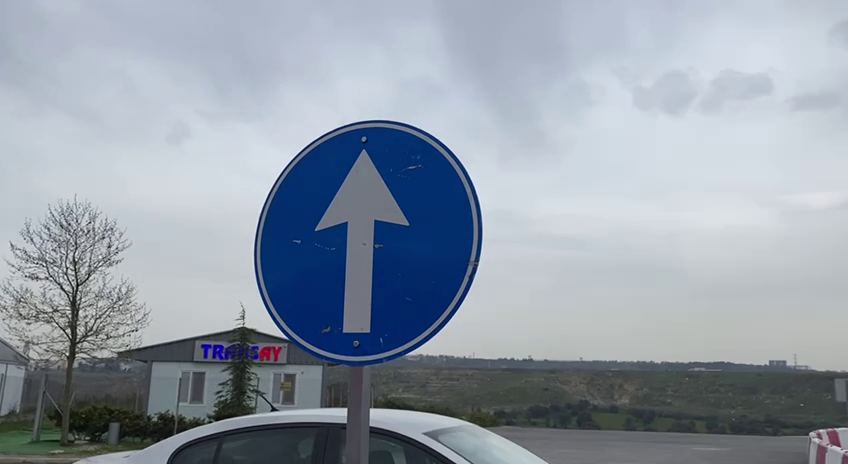forward: (242, 111, 492, 370)
